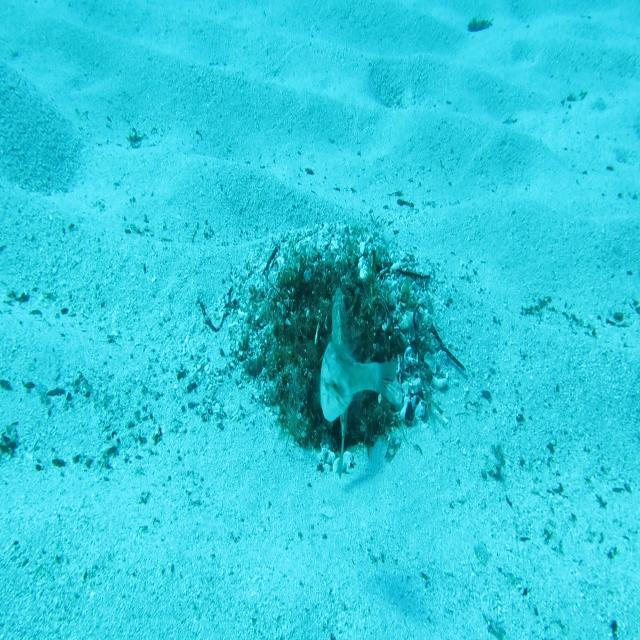FAN: (328, 285, 352, 484)
core_nest: (307, 274, 360, 308)
female: (312, 331, 402, 440)
nest: (227, 212, 458, 484)
vegetation: (466, 17, 495, 37)
